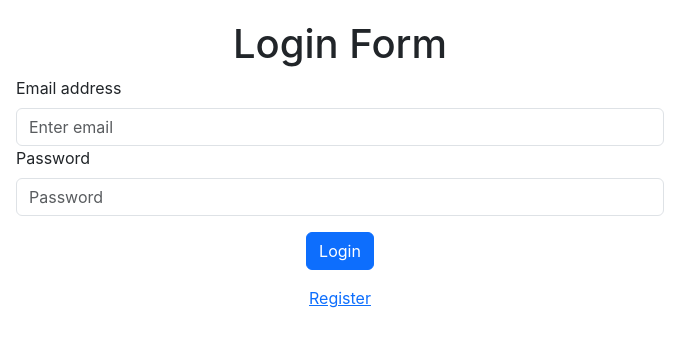
it: Login component › displays validation error if password is missing
This screenshot has width=681, height=338.
Click the button "Login": (340, 251) [306,232,374,270]
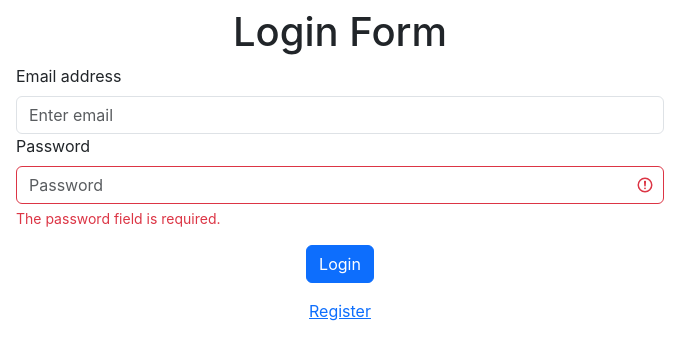
Check: the text "The password field is required." is shown, box [16,210,220,226]
